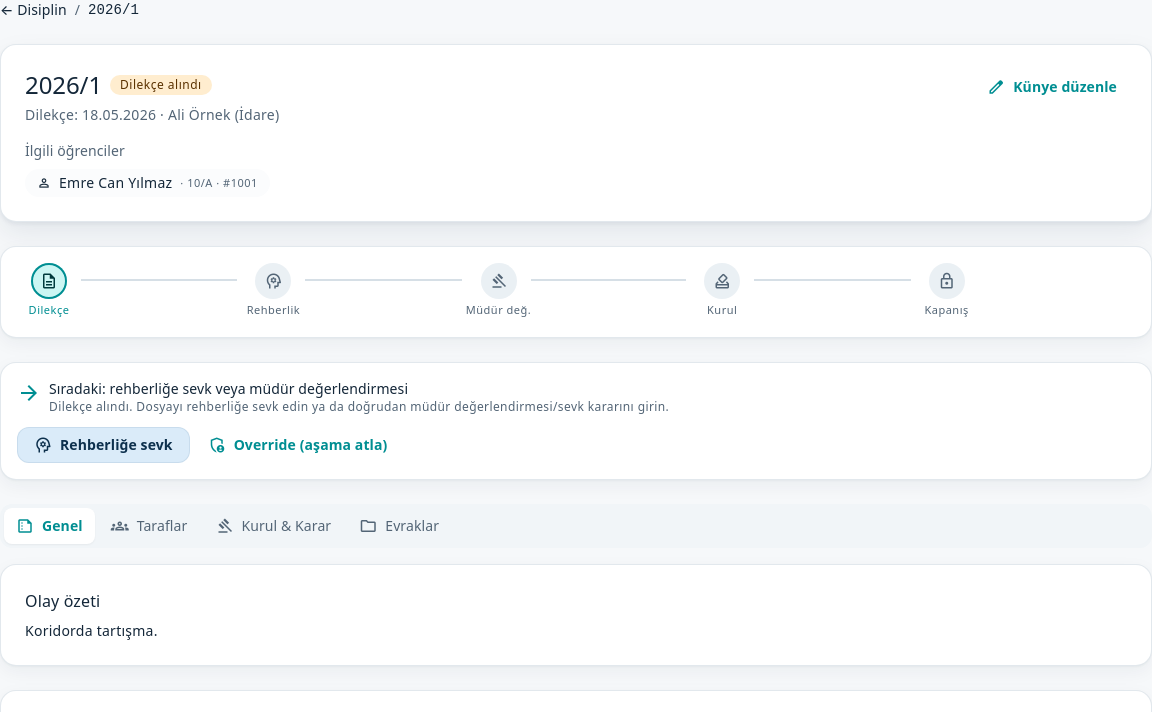
DisiplinDetayPage — gerekçe metinleri gerçeğe hizalı (bulgu #11) › override gerekçesi: olmayan AccessLog'a atıf yok, aşama kaydında saklandığı yazar
The width and height of the screenshot is (1152, 712).
Expected: the text "İlgili öğrenciler" is shown, [25, 141, 125, 160]
Click the button "Override (aşama atla)": (297, 445) [198, 427, 397, 463]
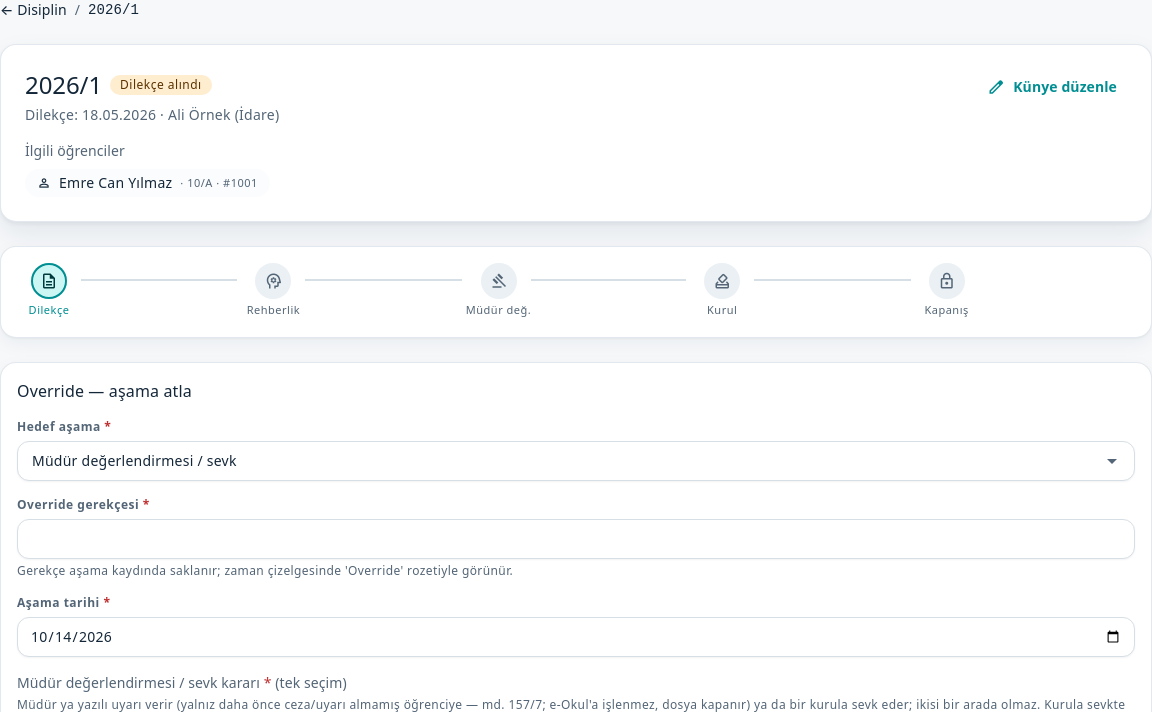
Expected: the text "zaman çizelgesinde" is shown, [17, 562, 513, 579]
